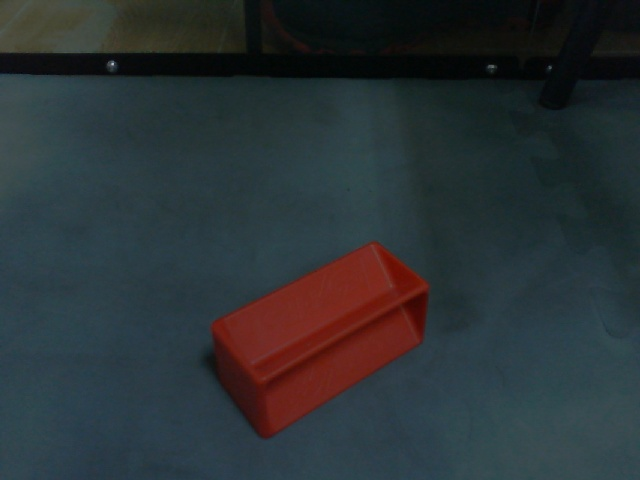RedSample: (207, 237, 432, 442)
